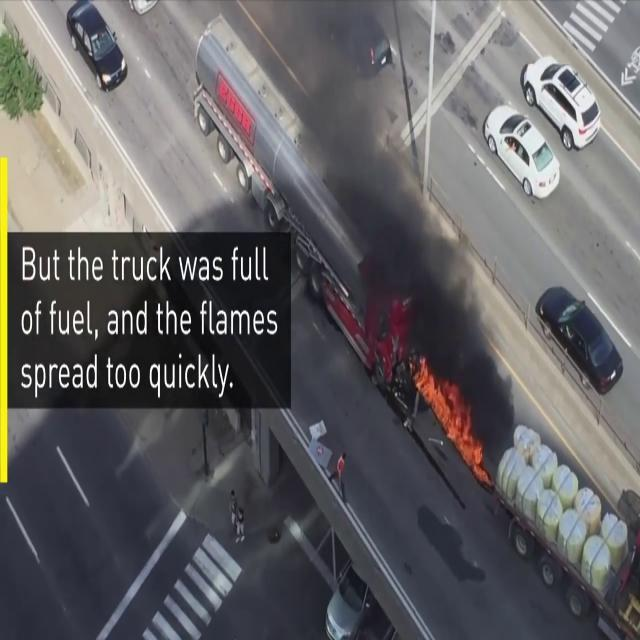Fire: (412, 353, 484, 467)
Smoke: (300, 7, 517, 454)
